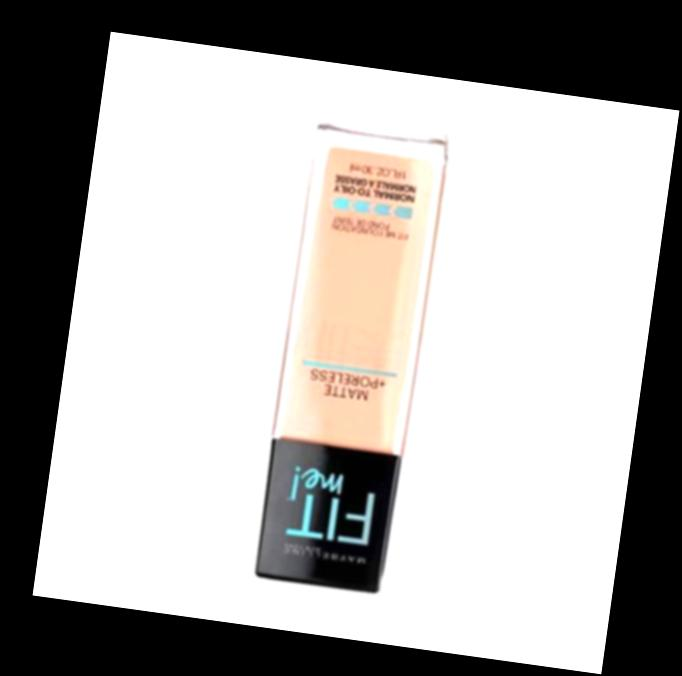cosmetic: (251, 113, 444, 595)
